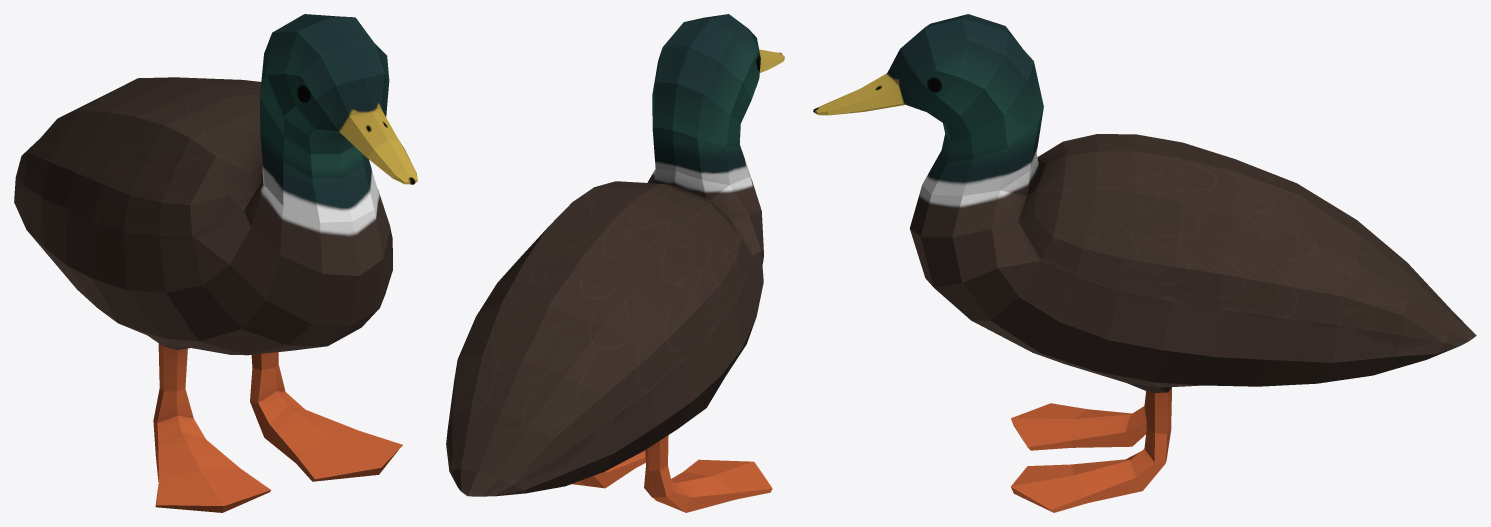
File: duck.glb
3 views of the same model, side by side, from view 1: azimuth 30°, elevation 25°; view 2: azimuth 150°, elevation 25°; view 3: azimuth 270°, elevation 25° (orthographic). The views are drawn at different scales.
Parts seen in each view (by area): view 1: MallardDuck_Mesh; view 2: MallardDuck_Mesh; view 3: MallardDuck_Mesh.
Part boxes in pixels (x1,y1,x2,y2): MallardDuck_Mesh: [14, 14, 417, 512]; MallardDuck_Mesh: [446, 14, 784, 512]; MallardDuck_Mesh: [813, 14, 1476, 512].
Bounding box in the file's own units: 0.9816 × 1.87 × 2.55.
1 material, 1 textured.
